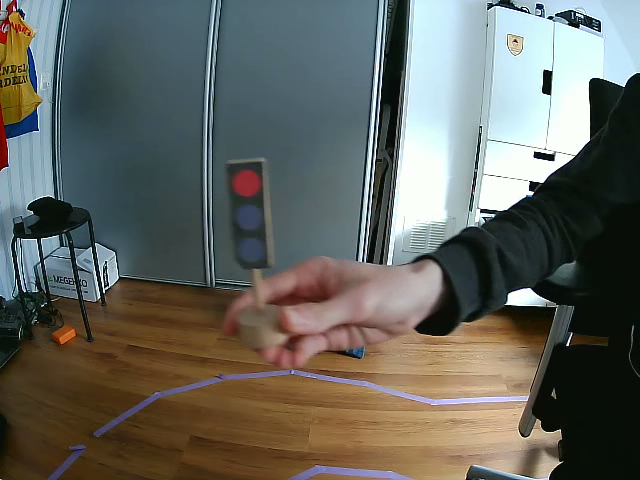roodlicht: (226, 162, 269, 269)
